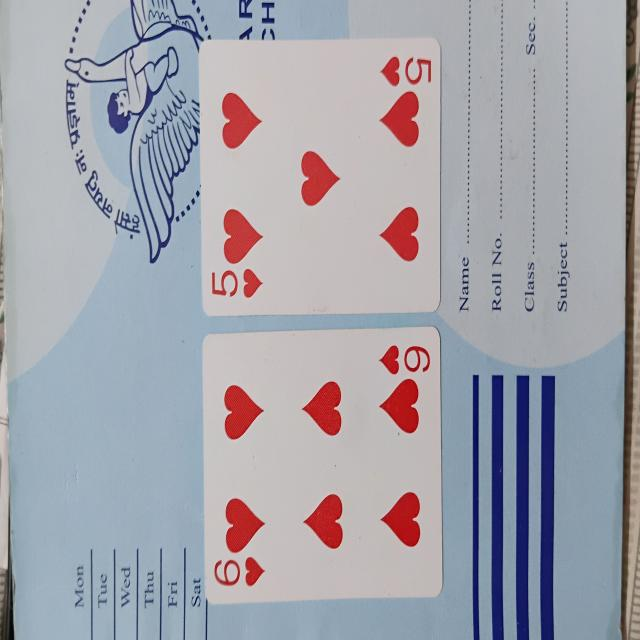5H: (200, 39, 443, 314)
6H: (204, 337, 445, 598)
